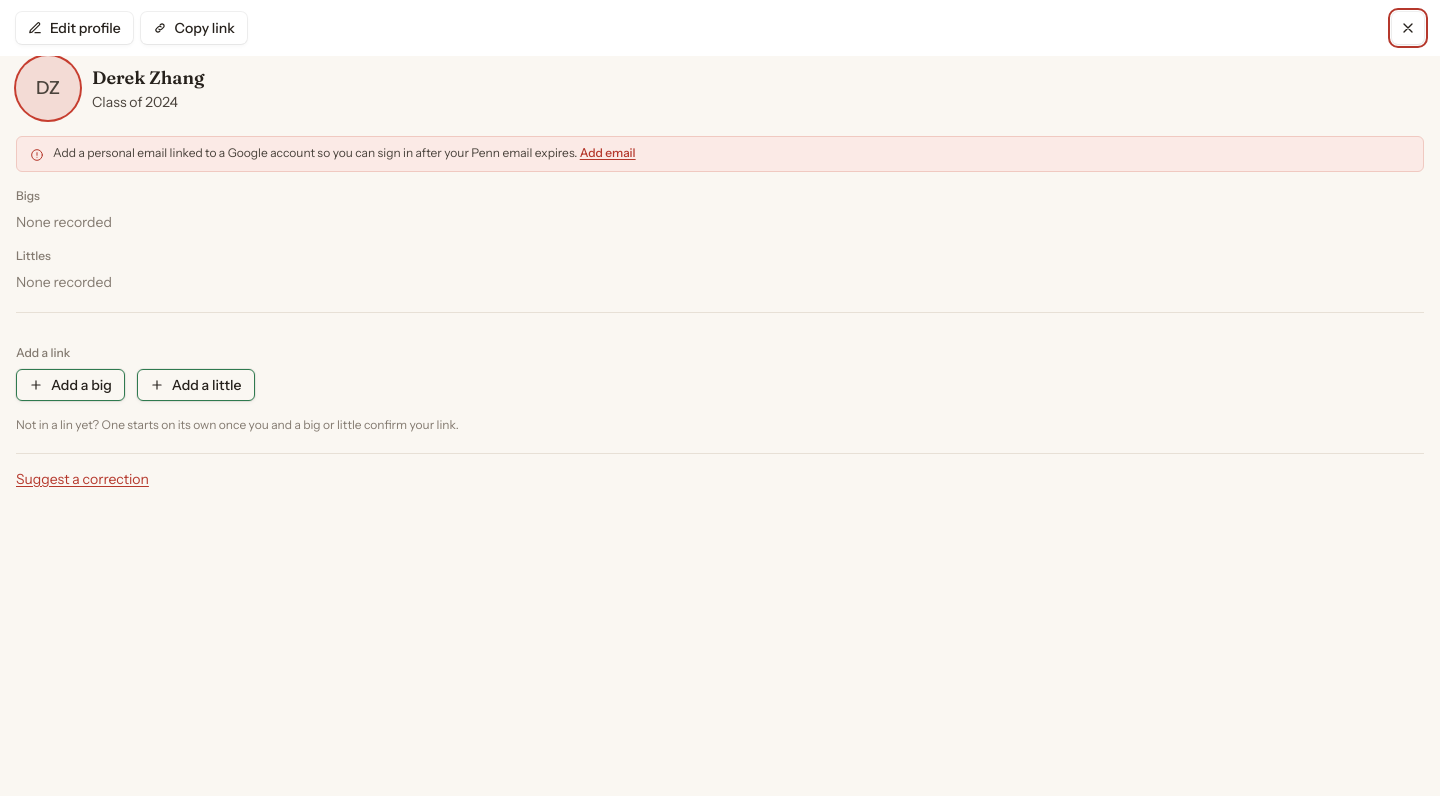
Test: SidePanel own-profile gating › shows an alumni sign-in reminder only on my profile while personal email is missing
expect the text "sign in after your Penn email expires" is shown: met, box [53,145,577,160]
Click the button "Add email" at (608, 153), box [580,145,636,161]
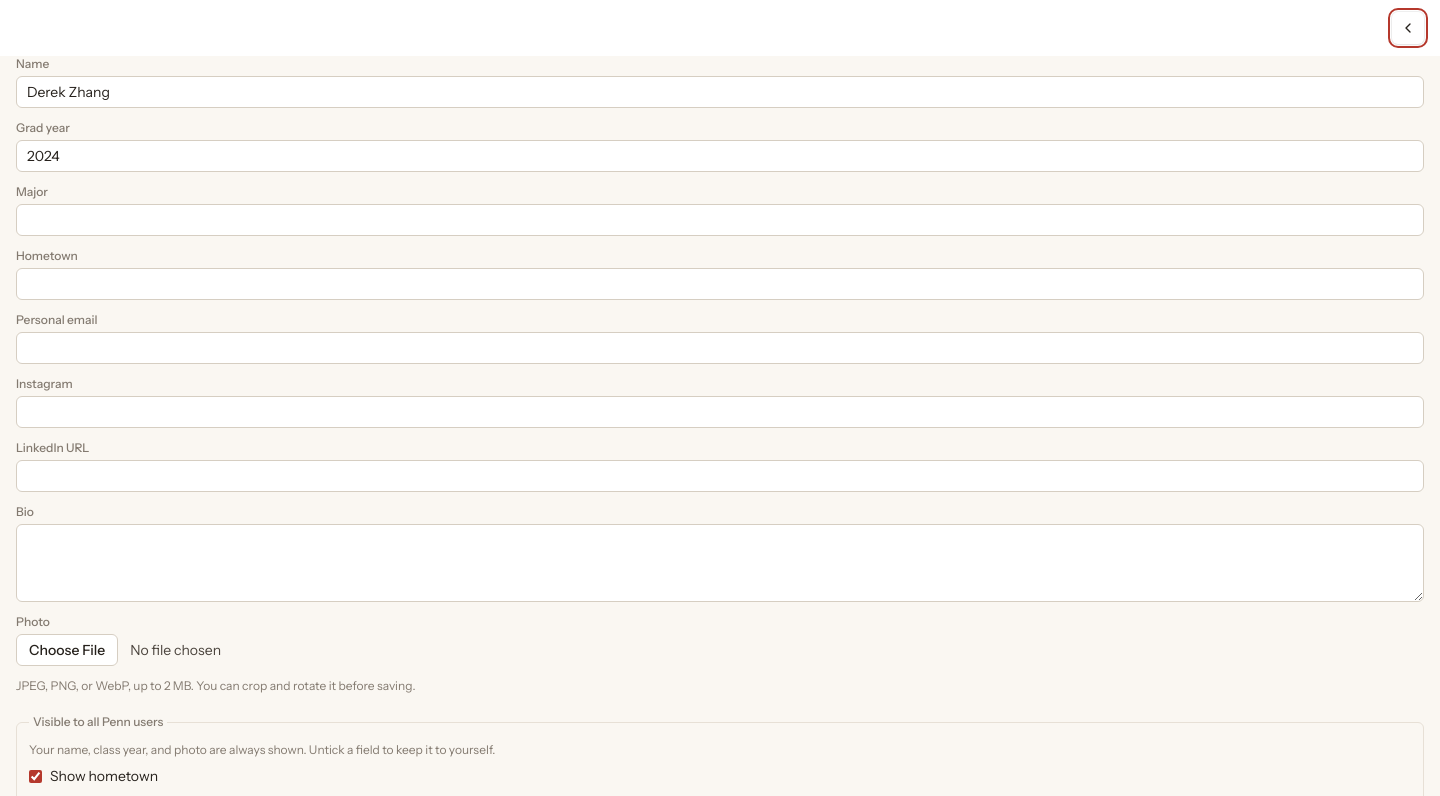
expect the field labelled "Personal email" is shown: met, box [16,332,1424,364]
